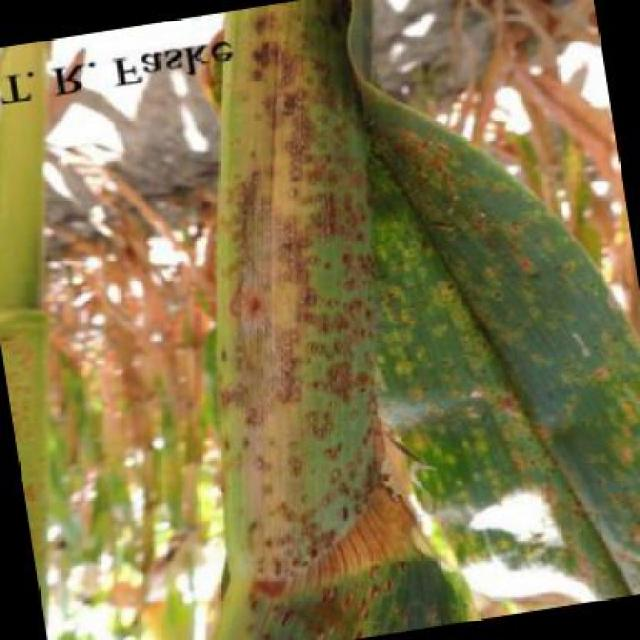Corn_Rust: (182, 83, 398, 629)
